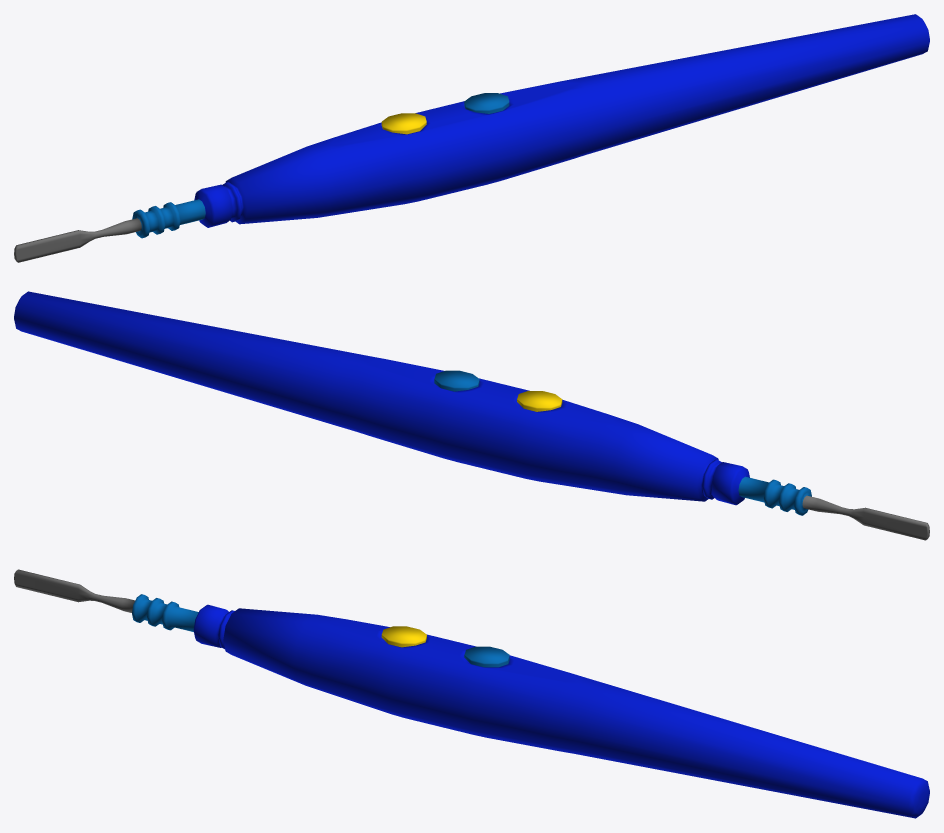
File: Cauterizer_low_03_biggerNose.FBX
The picture shows the model from 3 angles, top to bottom: view 1: azimuth 30°, elevation 25°; view 2: azimuth 150°, elevation 25°; view 3: azimuth 330°, elevation 25°; orthographic projection.
Parts seen in each view (by area): view 1: Cylinder001; view 2: Cylinder001; view 3: Cylinder001.
Boxes of the visible parts, box(x1,y1,x2,y2) form: Cylinder001: box(14, 14, 929, 262); Cylinder001: box(14, 291, 929, 540); Cylinder001: box(14, 569, 929, 818).
Bounding box in the file's own units: 119 × 9.59 × 10.12.
